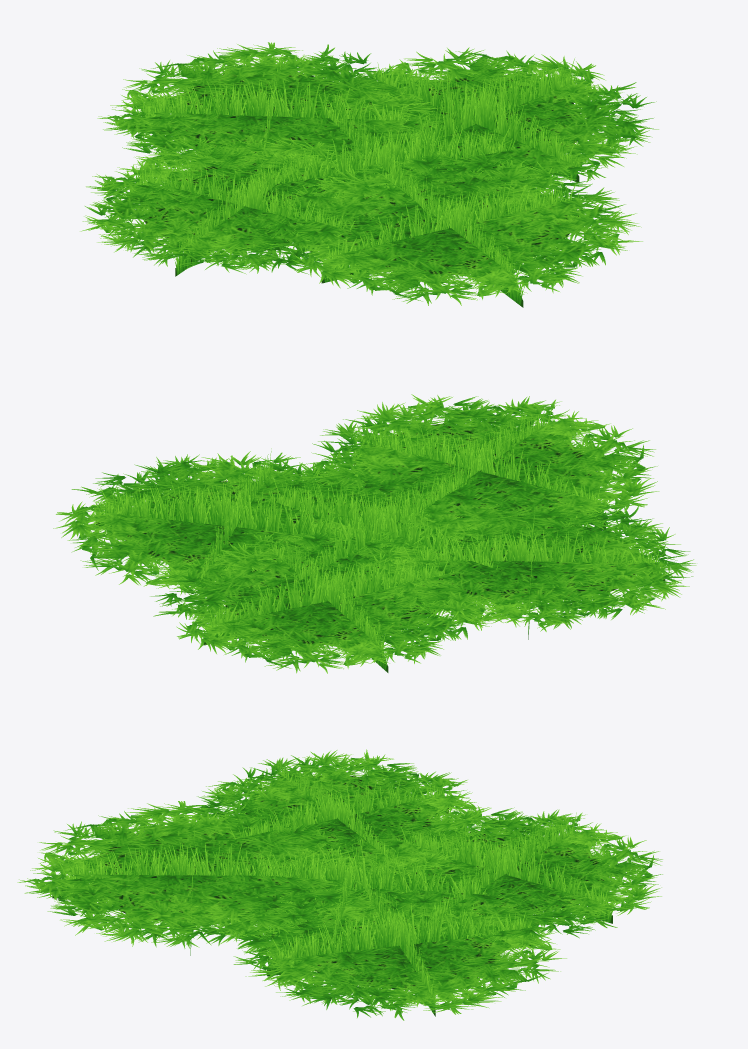
Rendered from grass_patch_M.glb.
The picture shows the model from 3 angles, top to bottom: view 1: azimuth 30°, elevation 25°; view 2: azimuth 150°, elevation 25°; view 3: azimuth 270°, elevation 25°; orthographic projection. The views are drawn at different scales.
Parts seen in each view (by area): view 1: grass_patch_M; view 2: grass_patch_M; view 3: grass_patch_M.
Boxes of the visible parts, left/top/right/bottom form: grass_patch_M: left=80, top=42, right=658, bottom=307; grass_patch_M: left=53, top=394, right=696, bottom=673; grass_patch_M: left=17, top=749, right=662, bottom=1020.
Size of the model in its own units: 3.27 by 0.3213 by 3.3.
2 materials, 2 textured.
